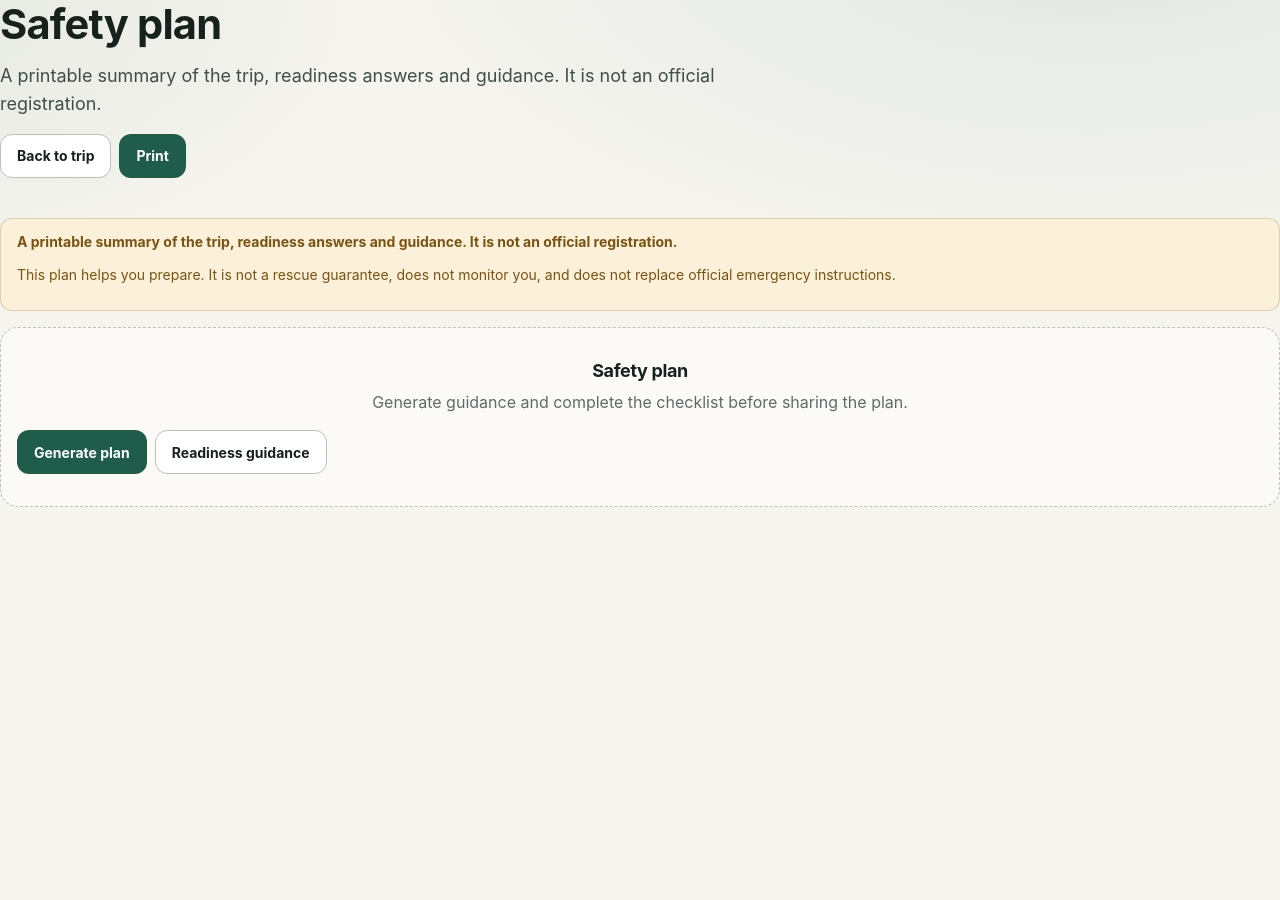
it: SafetyPlanPage › generates a plan: fills duration from the trip, persists it, and renders every section
expect the text "Generate guidance and complete the checklist before sharing the plan." is shown: met, box [372,392,908,412]
expect the text "not a rescue guarantee, does not monitor you" is shown: met, box [17,266,896,283]
Click the button "Generate plan" at (82, 452), box [17,430,147,474]
(page scrolled)
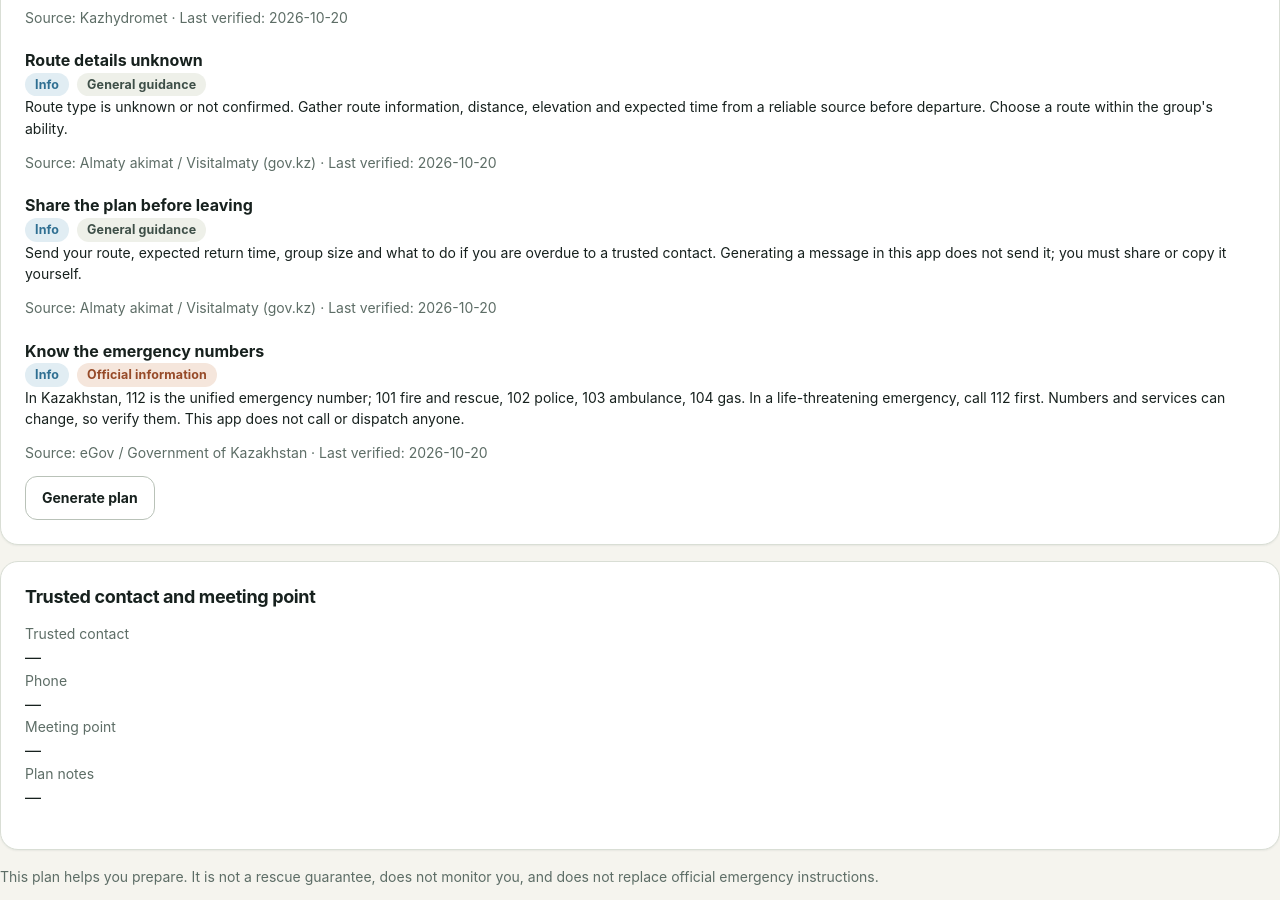
expect the text "Trusted contact" is shown: met, box [25,625,129,642]
expect the 1st text "—" is shown: met, box [25,647,41,667]
expect the text "Route details unknown" is shown: met, box [25,50,203,70]
